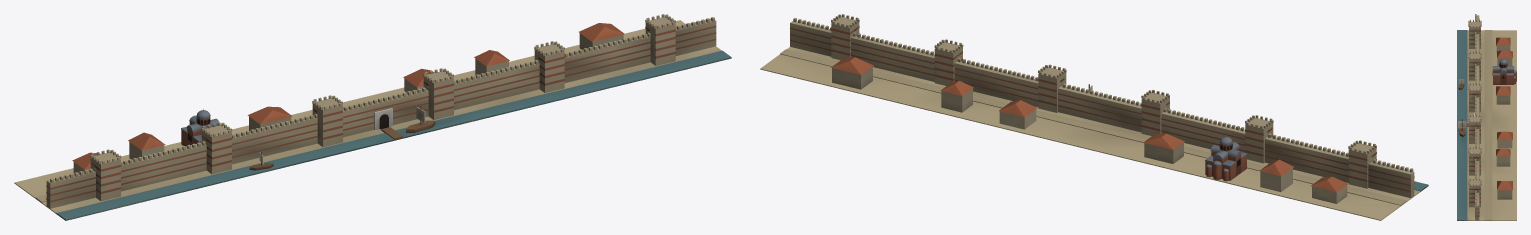
File: sea-walls.glb
3 renders of one model, left to right at view 1: azimuth 30°, elevation 25°; view 2: azimuth 150°, elevation 25°; view 3: azimuth 270°, elevation 25°, orthographic. The views are drawn at different scales.
Visible parts, largest first — view 1: p1_wall, p0_shore, p2_harbour; view 2: p1_wall, p0_shore, p2_harbour; view 3: p0_shore, p1_wall, p2_harbour.
Boxes of the visible parts, left/top/right/bottom form: p1_wall: left=46, top=14, right=716, bottom=208; p0_shore: left=14, top=20, right=731, bottom=220; p2_harbour: left=72, top=23, right=624, bottom=173; p1_wall: left=790, top=14, right=1414, bottom=197; p0_shore: left=760, top=47, right=1428, bottom=220; p2_harbour: left=831, top=57, right=1348, bottom=203; p0_shore: left=1457, top=30, right=1516, bottom=220; p1_wall: left=1468, top=14, right=1481, bottom=220; p2_harbour: left=1457, top=37, right=1516, bottom=199.
Size of the model in its own units: 300 by 17.5 by 40.02.
